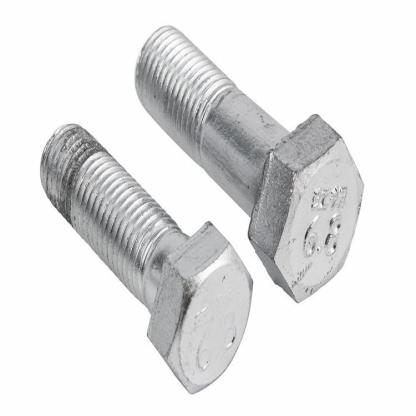FOD: (133, 22, 365, 305), (37, 121, 254, 395)
